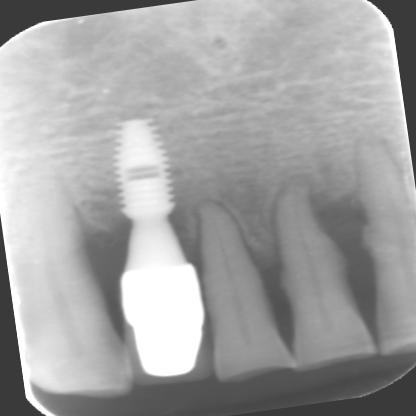Bicon: (113, 118, 178, 213)
